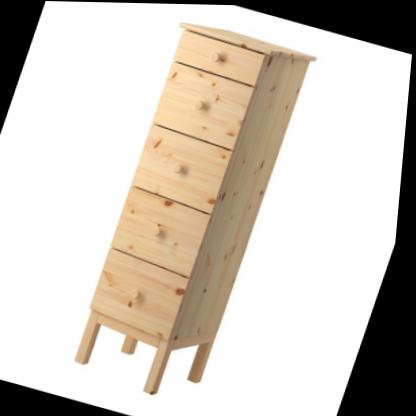Cabinet: (63, 10, 325, 412)
